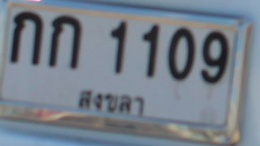txt01: (48, 12, 82, 71), (9, 10, 43, 66)
